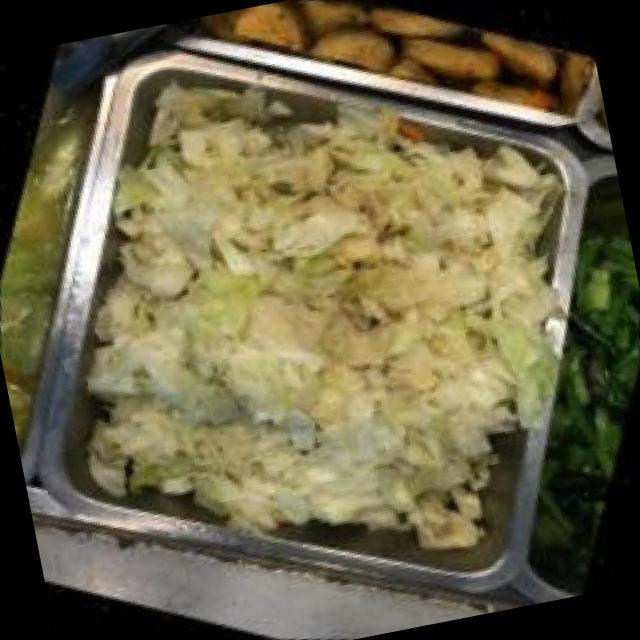chicken_nuggets: (212, 0, 605, 184)
chinese_cabbage: (0, 0, 625, 618)
water_spinach: (452, 173, 640, 598)
